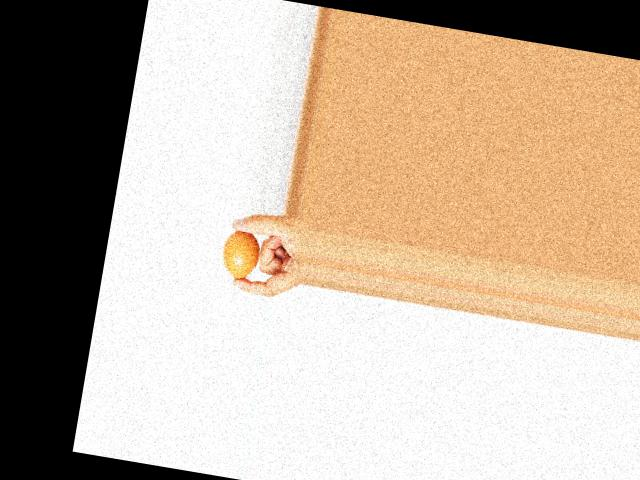egg: (217, 228, 262, 282)
